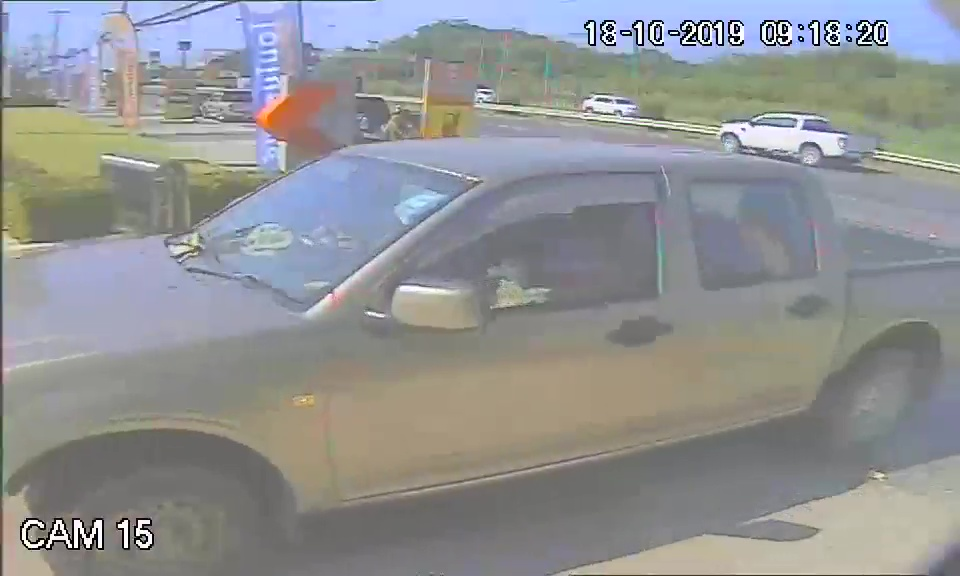pickup: (2, 137, 844, 508)
